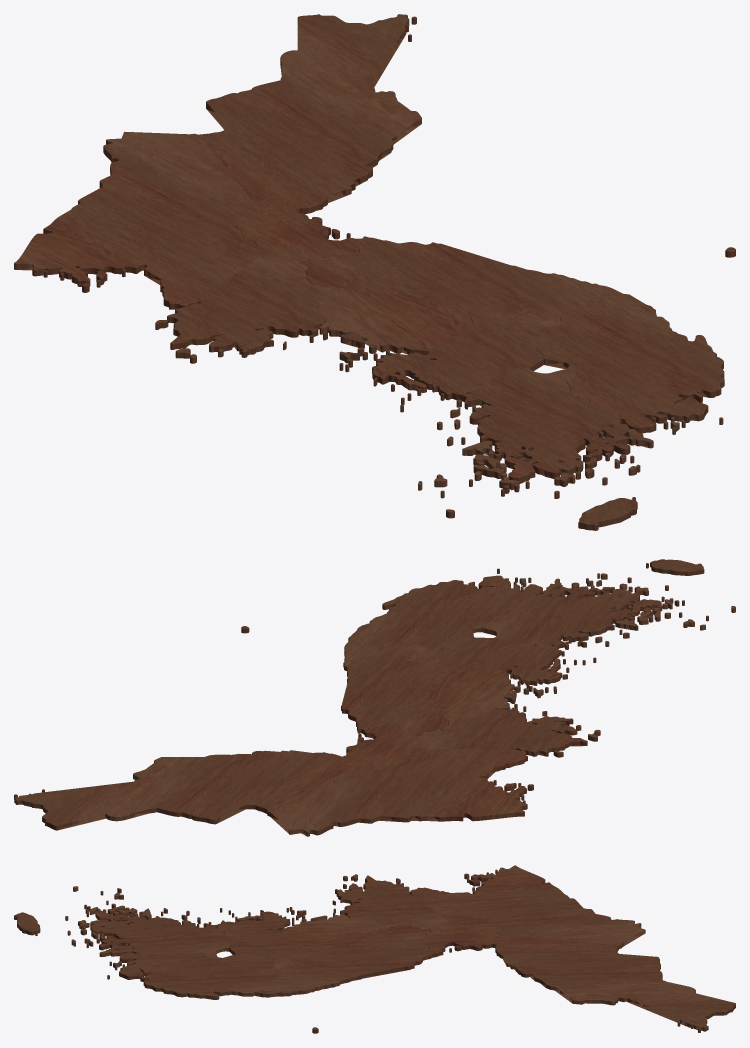
The model's file is Map_PuzzlePieces.fbx.
3 renders of one model, top to bottom at view 1: azimuth 30°, elevation 25°; view 2: azimuth 150°, elevation 25°; view 3: azimuth 270°, elevation 25°, orthographic. The views are drawn at different scales.
Parts seen in each view (by area): view 1: Hamgyeong.001, Pyeongan.001, Gyeongsang.001, Jeolla.001, Gangwon.001, Hwanghae.001, Chungcheong.001, Gyeonggi.001, Jeju.001; view 2: Hamgyeong.001, Pyeongan.001, Gyeongsang.001, Jeolla.001, Gangwon.001, Hwanghae.001, Chungcheong.001, Gyeonggi.001, Jeju.001; view 3: Hamgyeong.001, Pyeongan.001, Gangwon.001, Gyeongsang.001, Jeolla.001, Hwanghae.001, Chungcheong.001, Gyeonggi.001, Jeju.001.
Part boxes in pixels (box(x1,y1,x2,y2)): Hamgyeong.001: box(176, 14, 421, 260); Pyeongan.001: box(14, 131, 298, 309); Gyeongsang.001: box(522, 296, 724, 434); Jeolla.001: box(418, 368, 653, 518); Gangwon.001: box(301, 236, 735, 324); Hwanghae.001: box(155, 253, 343, 363); Chungcheong.001: box(372, 307, 564, 412); Gyeonggi.001: box(309, 286, 473, 372); Jeju.001: box(578, 497, 637, 530); Hamgyeong.001: box(14, 722, 412, 830); Pyeongan.001: box(261, 740, 533, 836); Gyeongsang.001: box(356, 568, 542, 650); Jeolla.001: box(481, 573, 735, 649); Gangwon.001: box(241, 625, 448, 736); Hwanghae.001: box(407, 707, 600, 757); Chungcheong.001: box(391, 637, 596, 688); Gyeonggi.001: box(415, 664, 556, 717); Jeju.001: box(646, 559, 704, 575); Hamgyeong.001: box(415, 924, 735, 1032); Pyeongan.001: box(410, 865, 645, 950); Gangwon.001: box(262, 924, 443, 1033); Gyeongsang.001: box(107, 949, 296, 999); Jeolla.001: box(65, 886, 234, 957); Hwanghae.001: box(332, 874, 449, 932); Chungcheong.001: box(215, 908, 306, 973); Gyeonggi.001: box(280, 907, 382, 952); Jeju.001: box(14, 912, 40, 935).
Size of the model in its own units: 6978 by 80 by 12934.
1 material, 1 textured.
